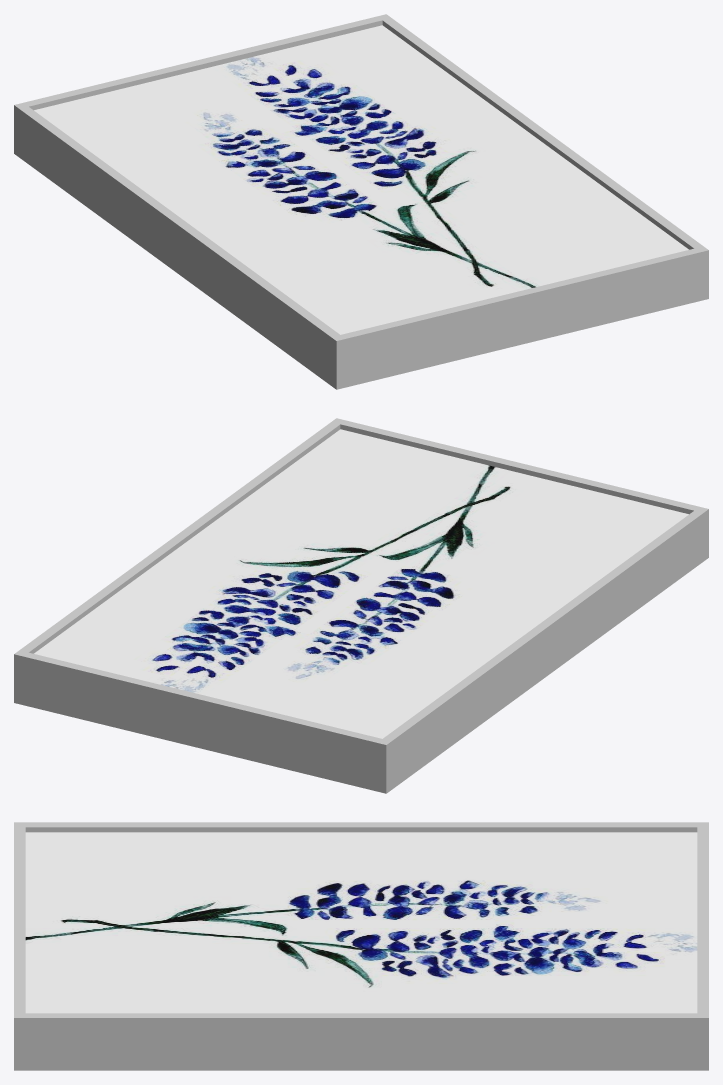
Rendered from Picture (2).fbx.
The picture shows the model from 3 angles, top to bottom: view 1: azimuth 30°, elevation 25°; view 2: azimuth 150°, elevation 25°; view 3: azimuth 270°, elevation 25°; orthographic projection. The views are drawn at different scales.
Parts seen in each view (by area): view 1: Cube; view 2: Cube; view 3: Cube.
Boxes of the visible parts, <box> form: Cube: <box>14,14,708,389</box>; Cube: <box>14,418,708,793</box>; Cube: <box>14,822,708,1070</box>.
Bounding box in the file's own units: 40 × 5 × 60.
2 materials, 1 textured.
